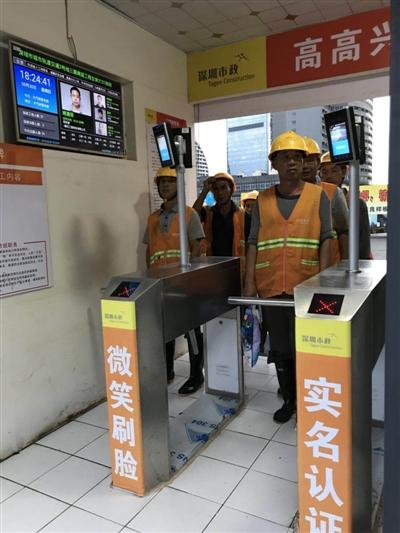helmet: (268, 130, 319, 156), (206, 169, 238, 200), (321, 146, 345, 171), (243, 191, 265, 209), (155, 168, 178, 182)
